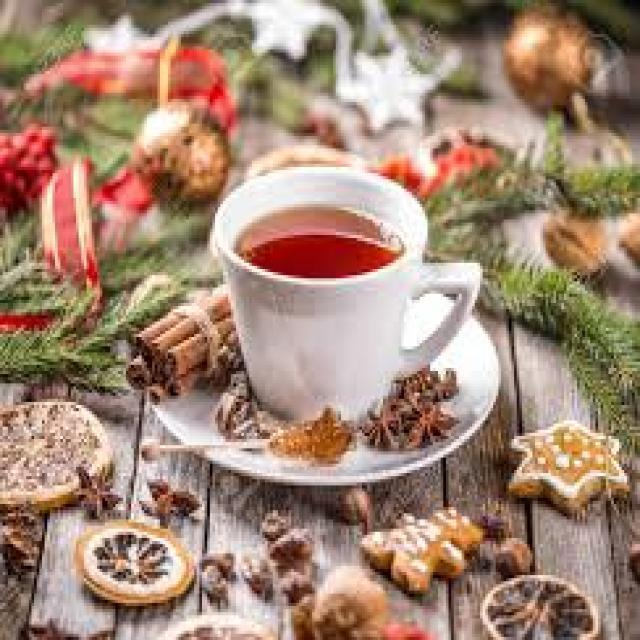taza: (209, 166, 486, 429)
